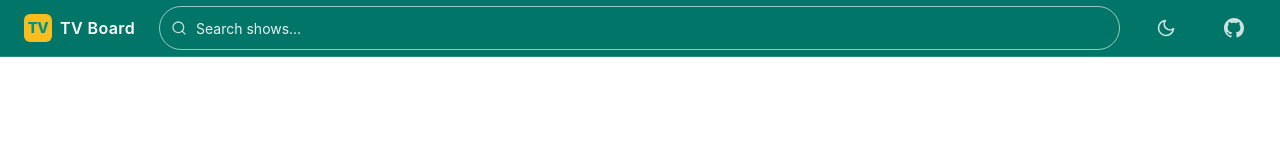
Test case: AppHeader › shows the clear button when the input has text
The image size is (1280, 160).
Step 1. Type "lost" into the search field with test id "search-input" → (640, 28), box [159,6,1120,50]
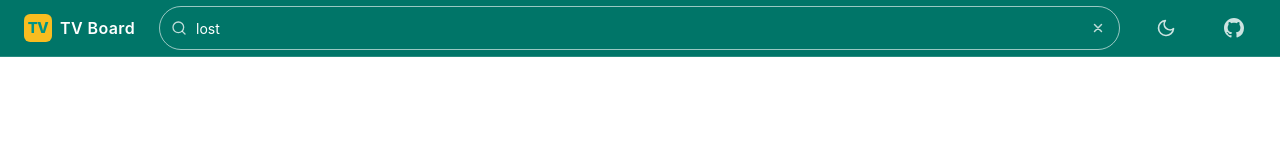
Now the button with test id "search-clear-btn" is shown, box [1088,18,1108,38]
